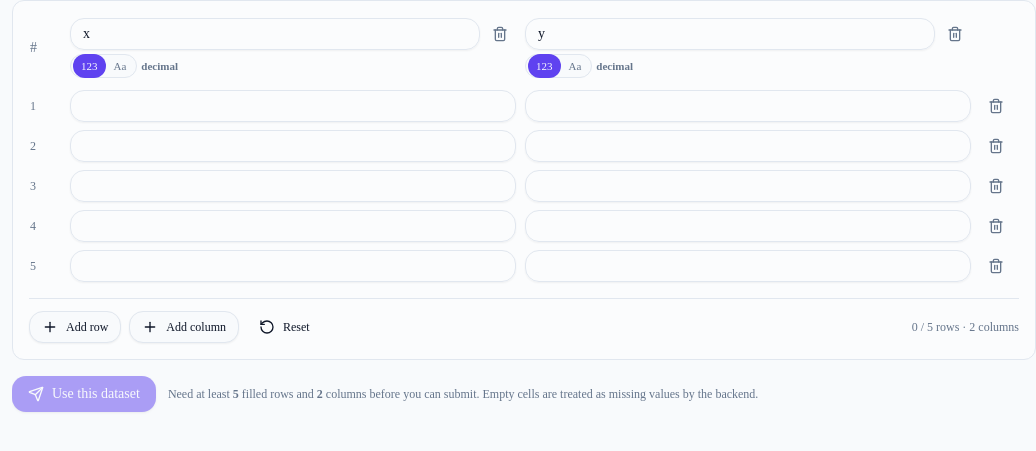
Test case: ManualEntryGrid › flags non-numeric input on a numeric column with an inline error
The width and height of the screenshot is (1036, 451).
Type "abc" into the field named "Row 1 column x" at (293, 106), box [70,90,516,122]
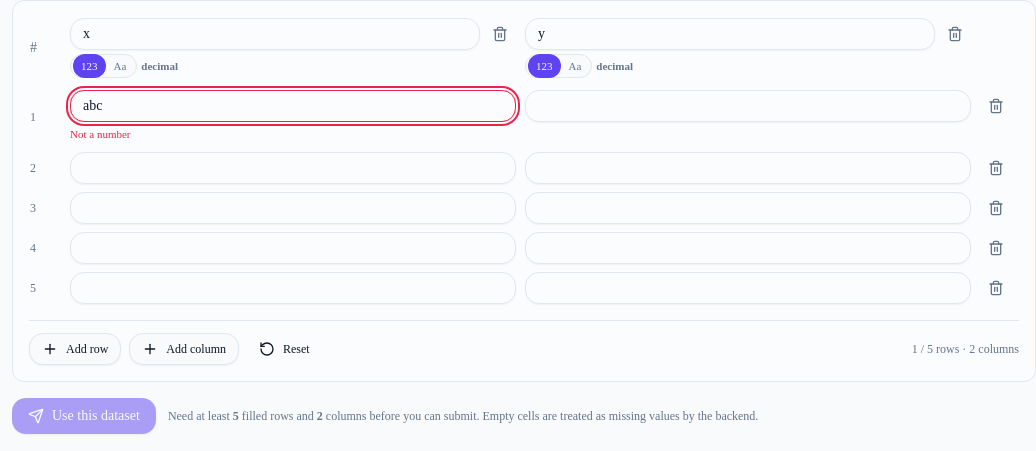
Expected: the text "Not a number" is shown, [70,128,130,140]
